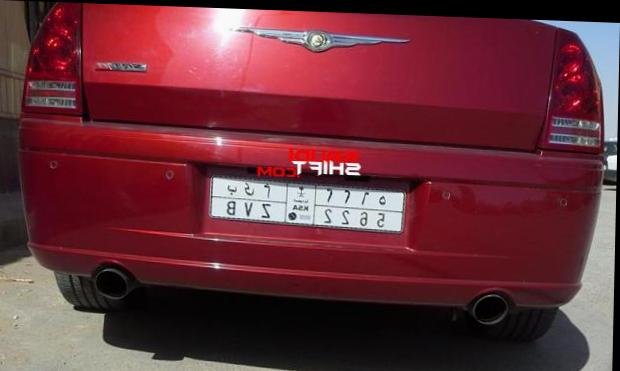License_Plate: (201, 171, 413, 238)
